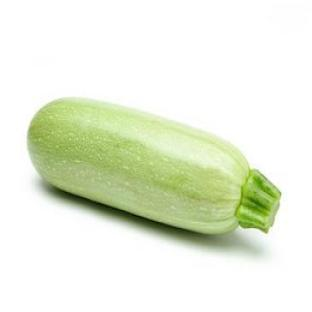Zucchini: (28, 99, 280, 233)
